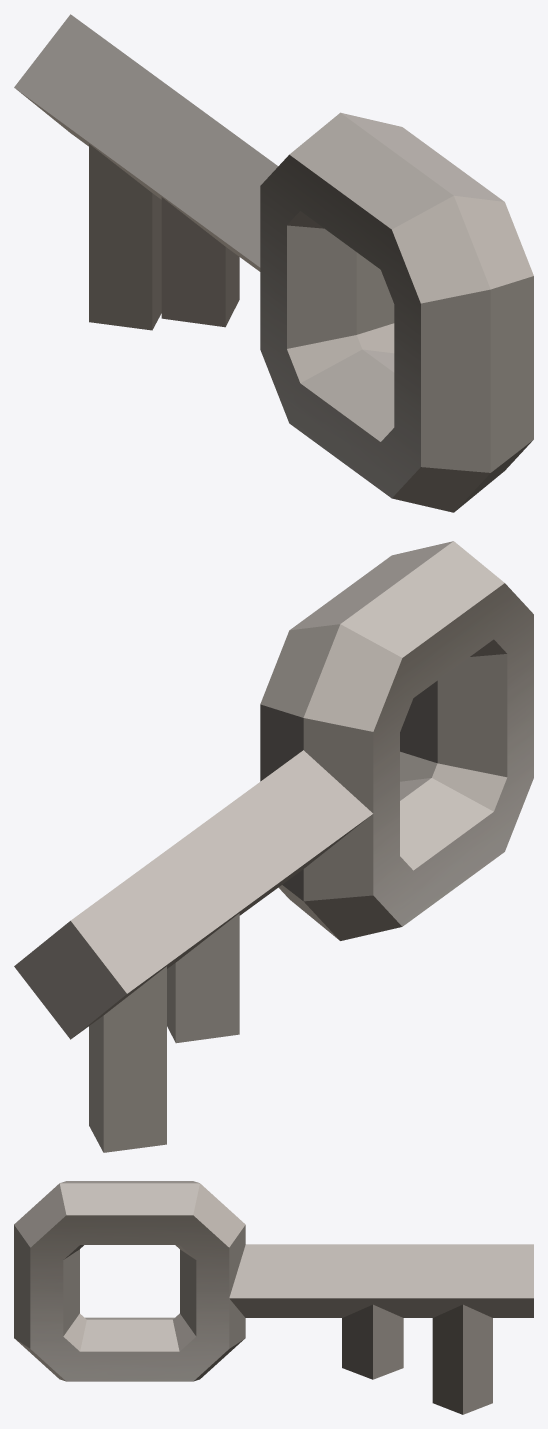
Rendered from m_deco_keySilver.FBX.
3 renders of one model, top to bottom at view 1: azimuth 30°, elevation 25°; view 2: azimuth 150°, elevation 25°; view 3: azimuth 270°, elevation 25°, orthographic. The views are drawn at different scales.
Visible parts, largest first — view 1: m_deco_keySilver; view 2: m_deco_keySilver; view 3: m_deco_keySilver.
Boxes of the visible parts, x1,y1,x2,y2 form: m_deco_keySilver: (14,14,533,512); m_deco_keySilver: (14,541,533,1152); m_deco_keySilver: (14,1181,533,1414).
Bounding box in the file's own units: 0.1629 × 0.4891 × 1.05.
